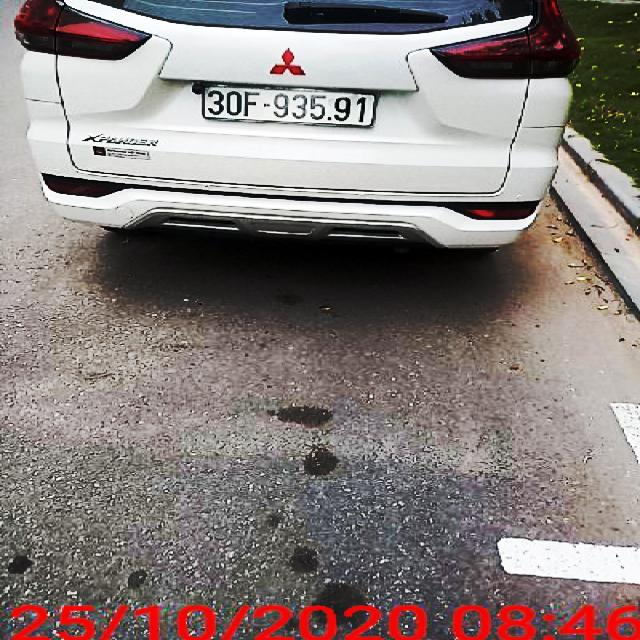license_plate: (203, 86, 379, 131)
